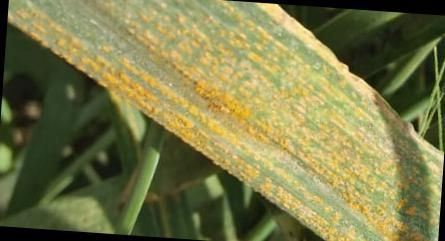Wheat: (53, 14, 296, 182), (182, 13, 362, 130), (284, 135, 421, 237)
